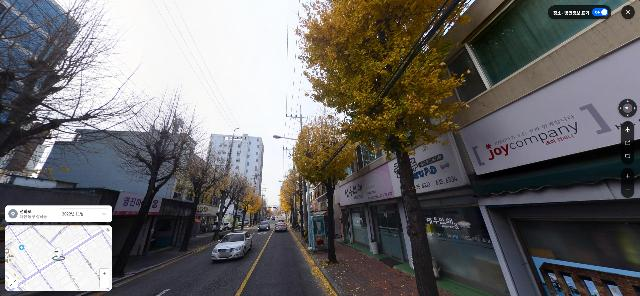ginkgo: (292, 0, 472, 296), (290, 109, 358, 263), (175, 138, 226, 253), (211, 160, 244, 240), (281, 167, 305, 236), (230, 173, 253, 232)
other: (0, 0, 161, 168), (111, 88, 207, 276)
